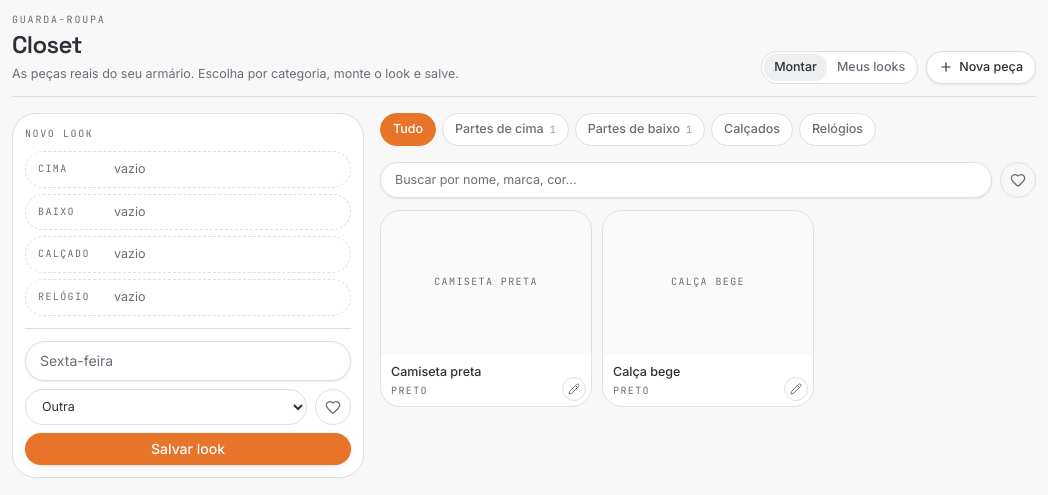
Test: the wardrobe pane › narrows the grid to one category
Expected: the button "Camiseta preta Camiseta preta preto" is shown, [380,210,592,407]
Click the button "Partes de baixo 1": (640, 129) [575,113,705,146]
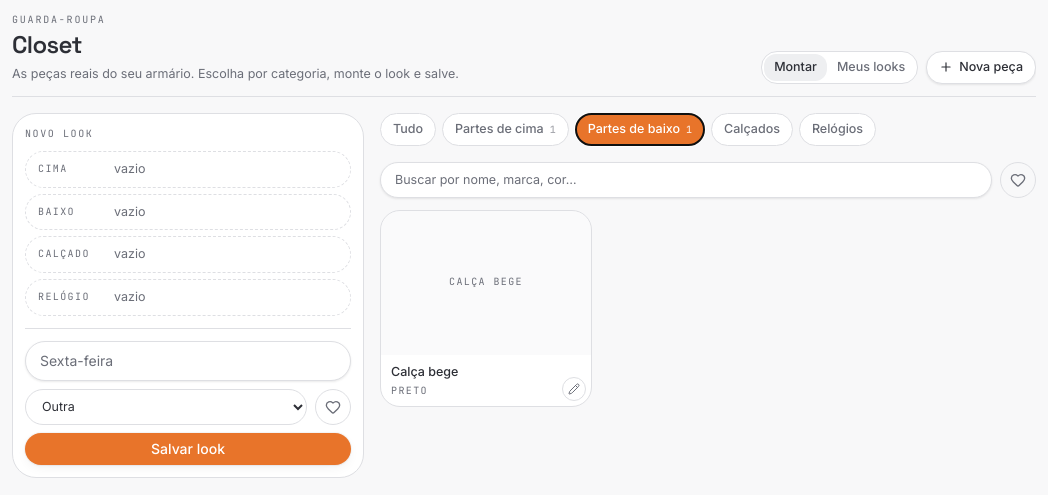
Expected: the button "Calça bege Calça bege preto" is shown, [380,210,592,407]
Now the button "Camiseta preta" is gone
